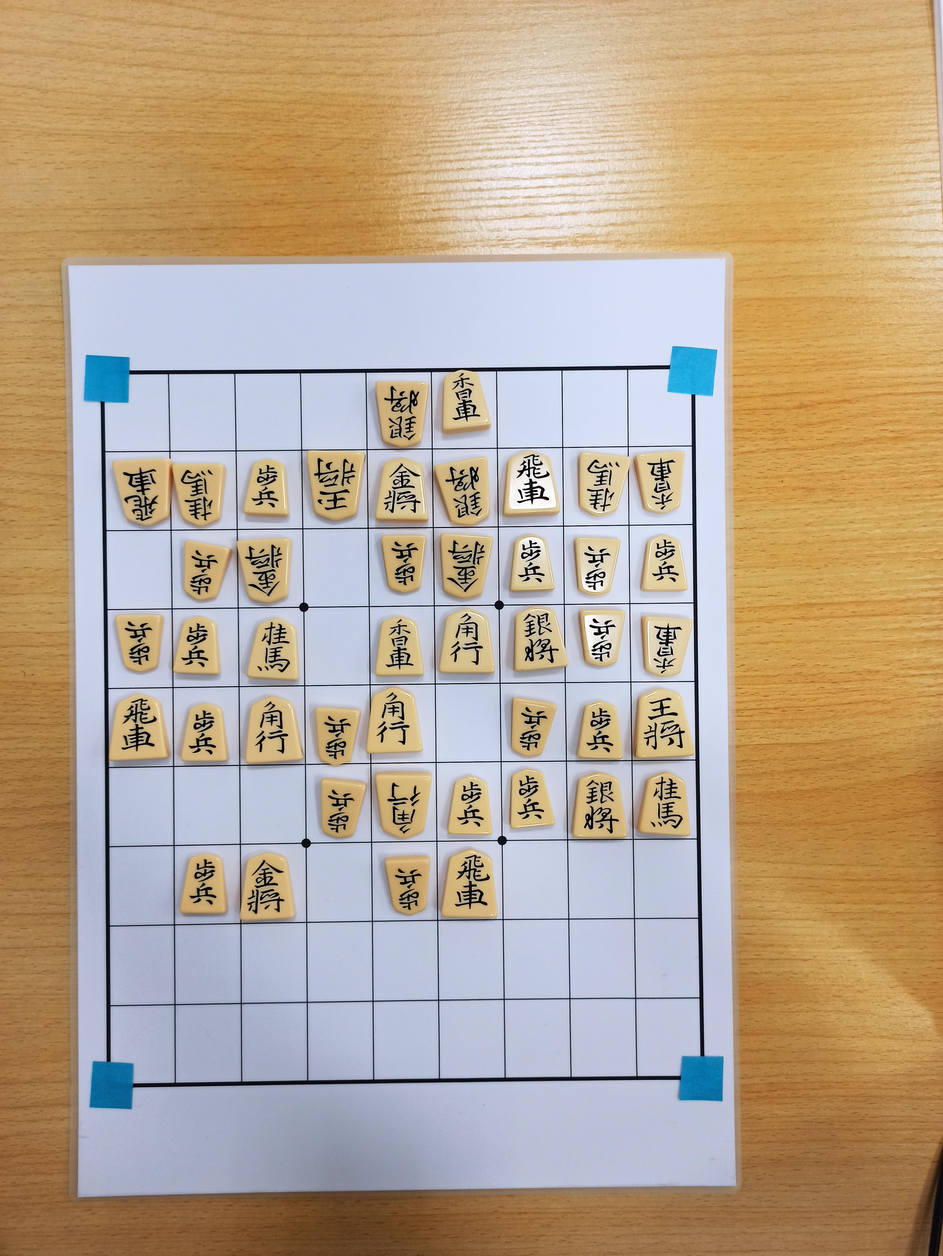board: (103, 367, 703, 1086)
